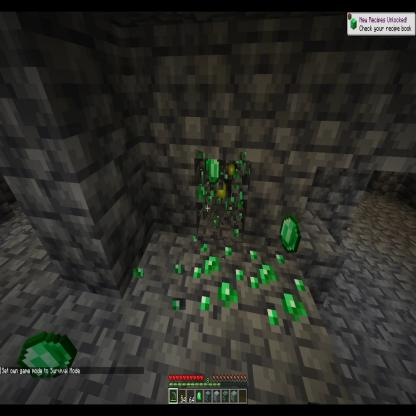emerald ore: (239, 238, 329, 350), (184, 235, 245, 333)
